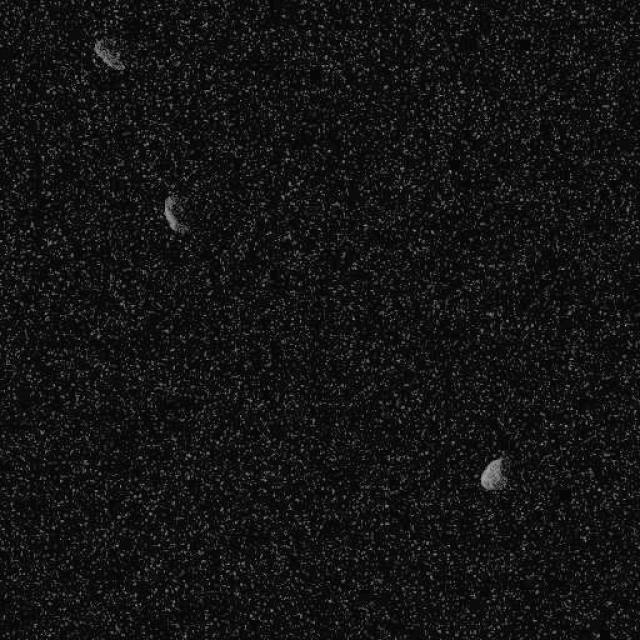D2: (92, 34, 126, 71), (161, 194, 189, 235), (478, 455, 508, 491)
